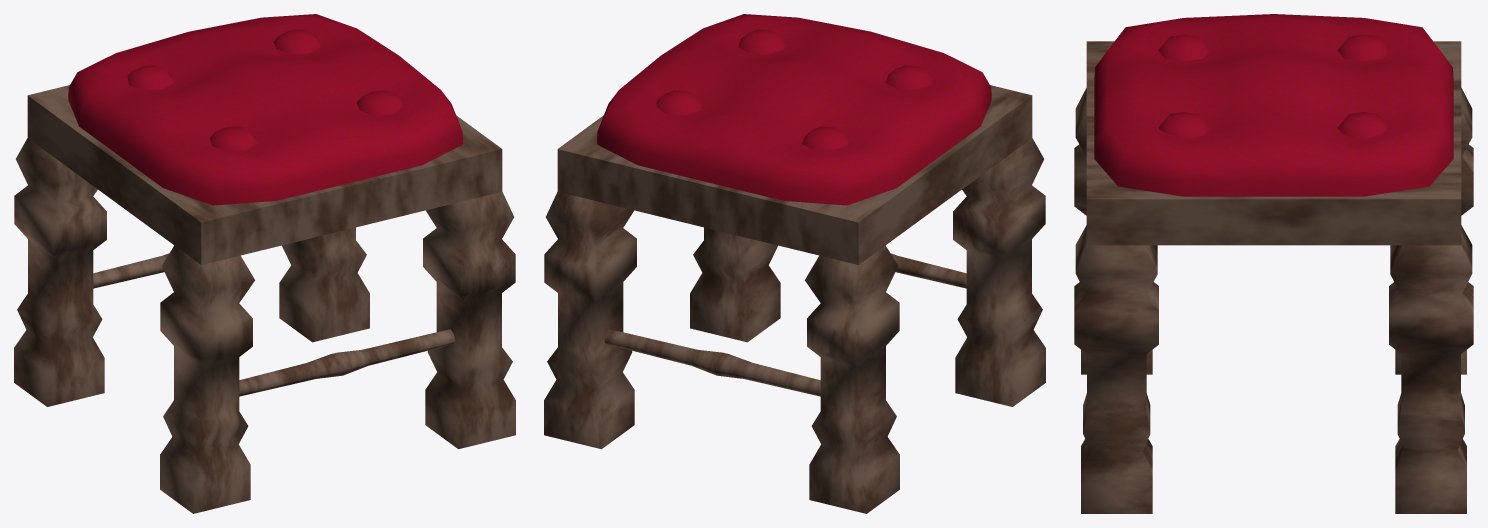
File: taburete de mierda.fbx
3 renders of one model, left to right at view 1: azimuth 30°, elevation 25°; view 2: azimuth 150°, elevation 25°; view 3: azimuth 270°, elevation 25°, orthographic. The views are drawn at different scales.
Parts seen in each view (by area): view 1: Cube.007; view 2: Cube.007; view 3: Cube.007.
Part boxes in pixels (<box>): Cube.007: <box>14,14,515,513</box>; Cube.007: <box>544,14,1045,513</box>; Cube.007: <box>1074,14,1473,513</box>.
Bounding box in the file's own units: 55.88 × 56.05 × 55.58.
